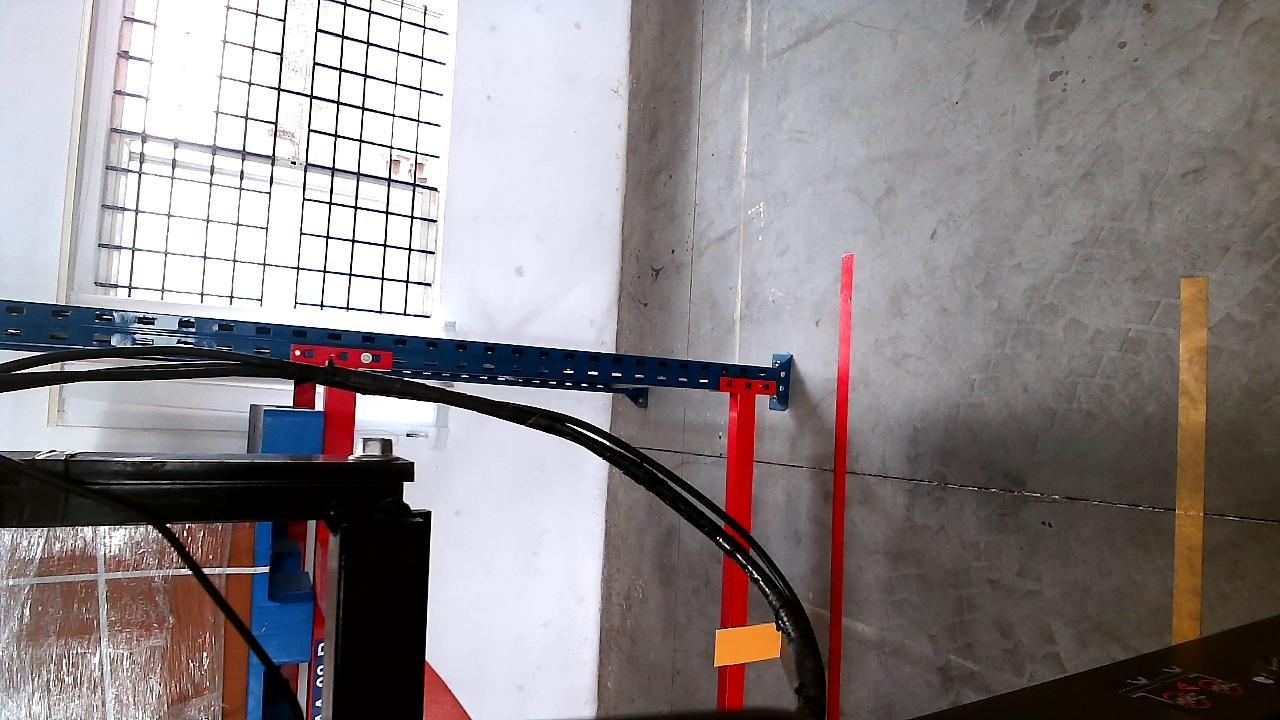red_line: (826, 253, 854, 720)
yellow_line: (1174, 275, 1209, 636)
